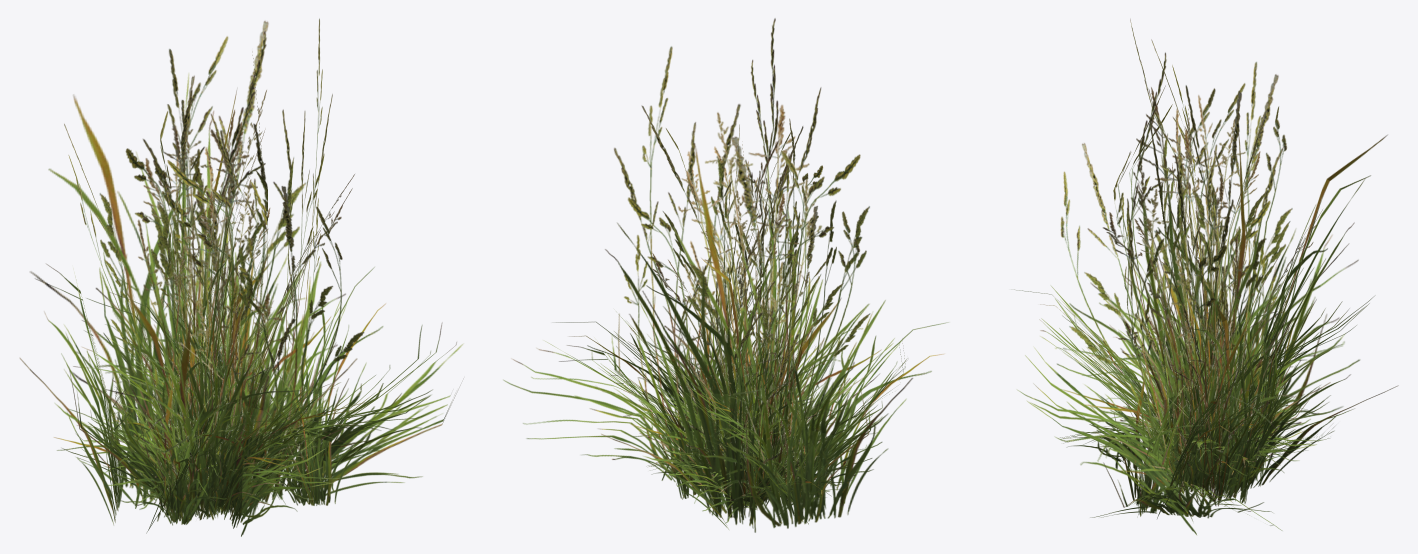
File: Bushes_v01.glb
3 renders of one model, left to right at view 1: azimuth 30°, elevation 25°; view 2: azimuth 150°, elevation 25°; view 3: azimuth 270°, elevation 25°, orthographic. The views are drawn at different scales.
Parts seen in each view (by area): view 1: SM_Bush_Tall_01, SM_Bush_Tall_03, SM_Bush_Medium_01, SM_Bush_Tall_02, SM_Bush_Tall_04, SM_Bush_Medium_02, SM_Bush_Medium_03; view 2: SM_Bush_Tall_01, SM_Bush_Tall_02, SM_Bush_Tall_03, SM_Bush_Medium_01, SM_Bush_Tall_04, SM_Bush_Medium_02, SM_Bush_Medium_03; view 3: SM_Bush_Tall_01, SM_Bush_Tall_02, SM_Bush_Tall_03, SM_Bush_Medium_01, SM_Bush_Tall_04, SM_Bush_Medium_02, SM_Bush_Medium_03.
Part boxes in pixels (x1=…): SM_Bush_Tall_01: x1=19, y1=18, x2=463, y2=533; SM_Bush_Tall_03: x1=86, y1=114, x2=357, y2=520; SM_Bush_Medium_01: x1=54, y1=242, x2=365, y2=536; SM_Bush_Tall_02: x1=116, y1=49, x2=312, y2=517; SM_Bush_Tall_04: x1=122, y1=90, x2=286, y2=510; SM_Bush_Medium_02: x1=73, y1=285, x2=349, y2=503; SM_Bush_Medium_03: x1=134, y1=280, x2=271, y2=490; SM_Bush_Tall_01: x1=503, y1=18, x2=948, y2=532; SM_Bush_Tall_02: x1=663, y1=59, x2=836, y2=508; SM_Bush_Tall_03: x1=623, y1=141, x2=872, y2=509; SM_Bush_Medium_01: x1=629, y1=292, x2=882, y2=523; SM_Bush_Tall_04: x1=664, y1=104, x2=828, y2=511; SM_Bush_Medium_02: x1=639, y1=331, x2=873, y2=513; SM_Bush_Medium_03: x1=652, y1=283, x2=819, y2=496; SM_Bush_Tall_01: x1=1014, y1=18, x2=1398, y2=534; SM_Bush_Tall_02: x1=1102, y1=52, x2=1290, y2=482; SM_Bush_Tall_03: x1=1095, y1=119, x2=1359, y2=495; SM_Bush_Medium_01: x1=1060, y1=214, x2=1334, y2=516; SM_Bush_Tall_04: x1=1131, y1=87, x2=1281, y2=489; SM_Bush_Medium_02: x1=1082, y1=288, x2=1330, y2=481; SM_Bush_Medium_03: x1=1143, y1=283, x2=1289, y2=485.
Size of the model in its own units: 1.31 by 1.45 by 1.11.
Materials: 1 (1 with a texture image).
